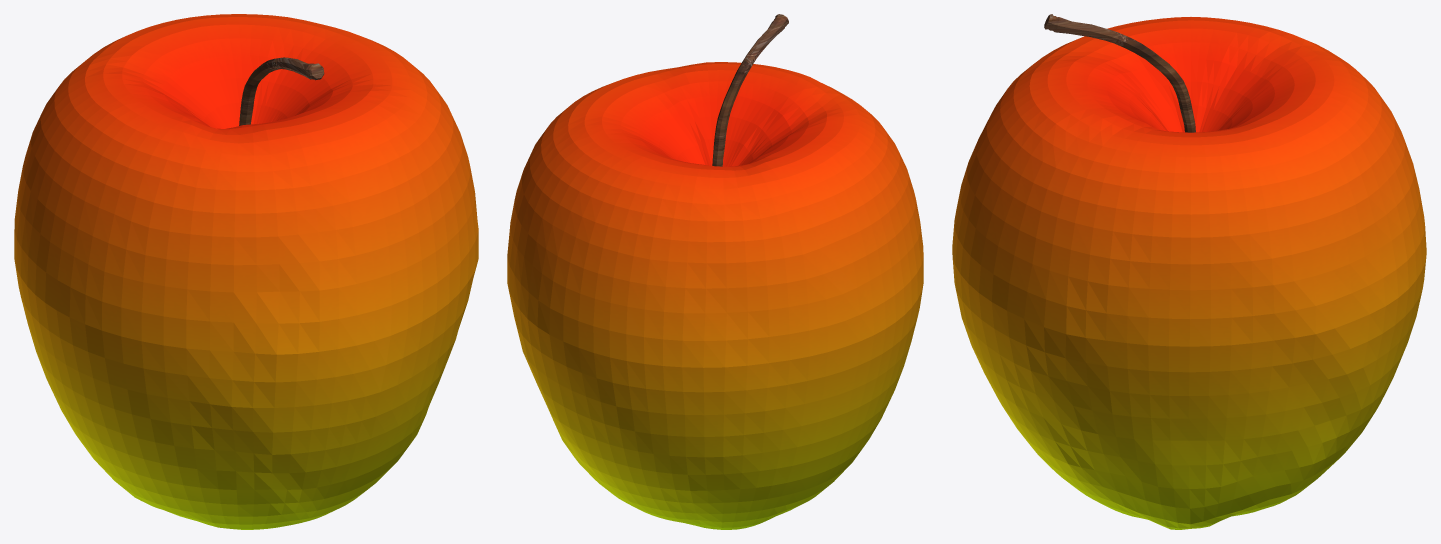
Rendered from appletest.obj.
3 views of the same model, side by side, from view 1: azimuth 30°, elevation 25°; view 2: azimuth 150°, elevation 25°; view 3: azimuth 270°, elevation 25° (orthographic). The views are drawn at different scales.
Visible parts, largest first — view 1: apple_skin, apple_stem; view 2: apple_skin, apple_stem; view 3: apple_skin, apple_stem.
Part boxes in pixels (x1,y1,x2,y2): apple_skin: [14, 14, 478, 529]; apple_stem: [239, 57, 324, 125]; apple_skin: [507, 62, 923, 529]; apple_stem: [712, 14, 788, 166]; apple_skin: [952, 17, 1426, 529]; apple_stem: [1044, 14, 1195, 132].
Size of the model in its own units: 0.6172 by 0.7322 by 0.6509.
